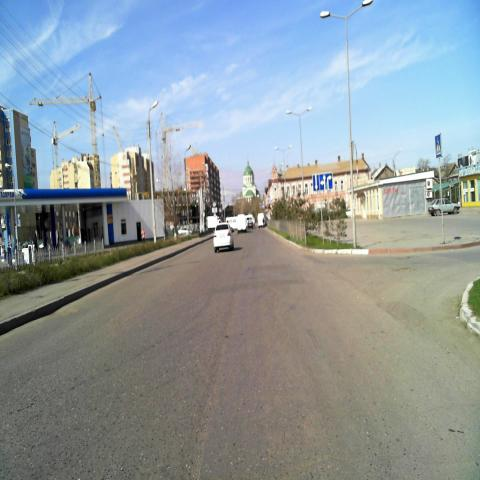5_15_7: (313, 173, 332, 191)
